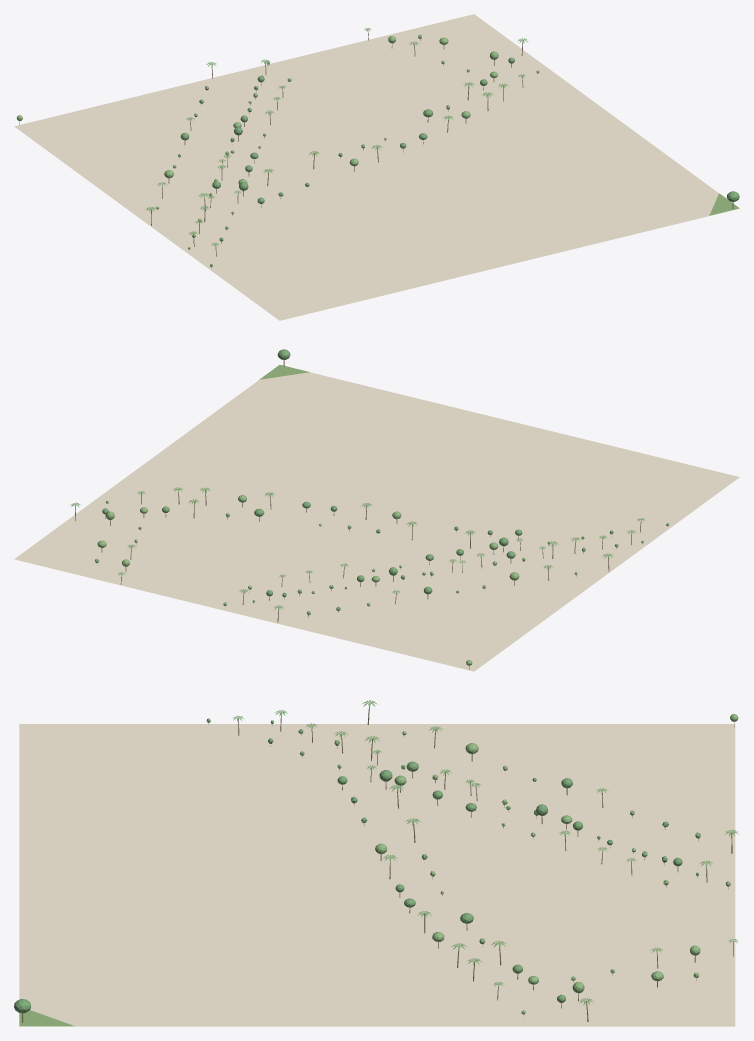
File: nature_-6_4.glb
3 views of the same model, one above another, from view 1: azimuth 30°, elevation 25°; view 2: azimuth 150°, elevation 25°; view 3: azimuth 270°, elevation 25° (orthographic). The views are drawn at different scales.
Visible parts, largest first — view 1: ground, foliage_a, foliage_b, palm_leaf, trunk; view 2: ground, foliage_a, foliage_b, palm_leaf, trunk; view 3: ground, foliage_a, foliage_b, palm_leaf, trunk, grass.
Part boxes in pixels (left/top/right/bottom): ground: left=14, top=14, right=738, bottom=320; foliage_a: left=178, top=57, right=739, bottom=266; foliage_b: left=17, top=34, right=539, bottom=222; palm_leaf: left=146, top=28, right=527, bottom=246; trunk: left=19, top=29, right=733, bottom=268; ground: left=14, top=372, right=739, bottom=671; foliage_a: left=102, top=349, right=669, bottom=611; foliage_b: left=95, top=495, right=585, bottom=665; palm_leaf: left=71, top=487, right=644, bottom=610; trunk: left=75, top=360, right=641, bottom=669; ground: left=19, top=724, right=735, bottom=1026; foliage_a: left=14, top=718, right=698, bottom=1013; foliage_b: left=334, top=714, right=738, bottom=1014; palm_leaf: left=233, top=700, right=738, bottom=1005; trunk: left=22, top=707, right=734, bottom=1022; grass: left=19, top=1010, right=74, bottom=1026.
Bounding box in the file's own units: 252 × 8.89 × 253.
